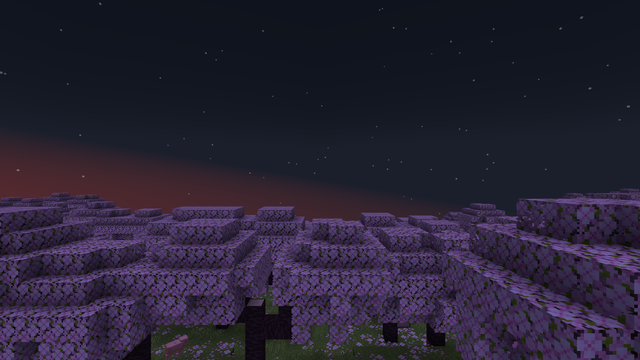cochons: (164, 338, 183, 358)
